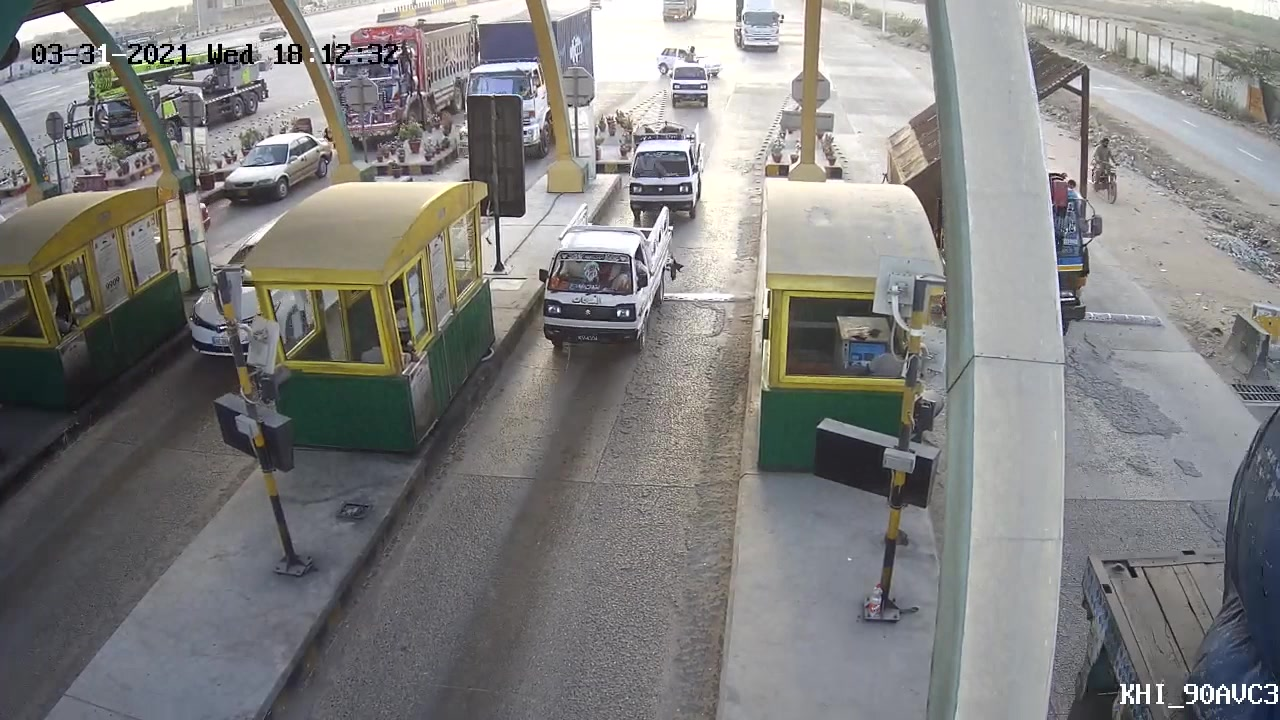F2: (531, 201, 677, 362)
